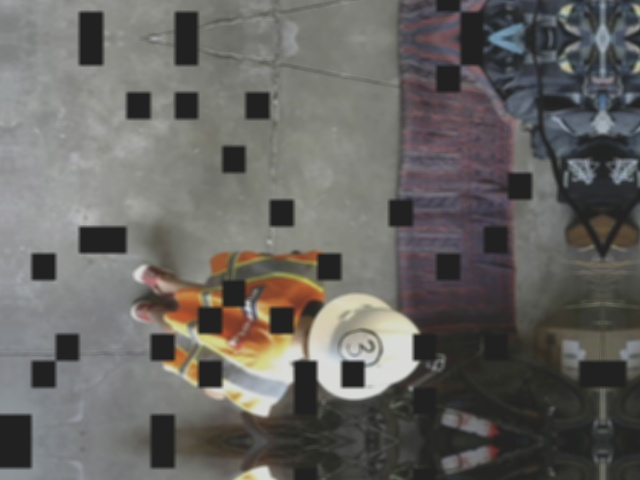three: (338, 328, 382, 366)
